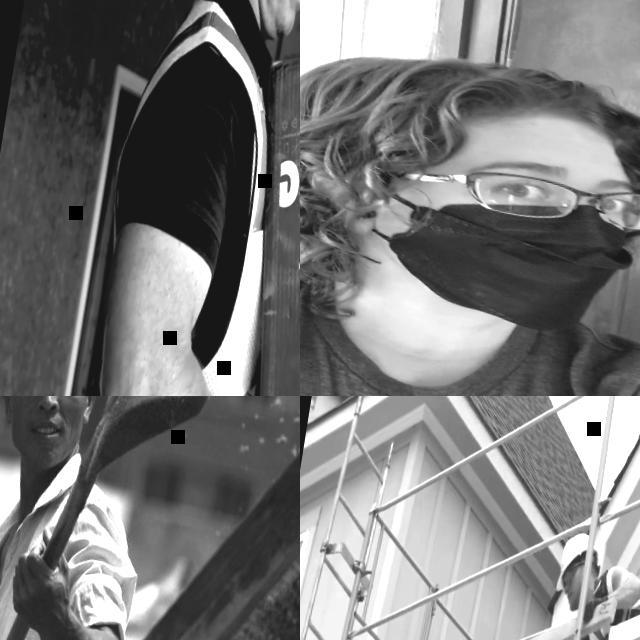helmet: (556, 530, 602, 596)
vest: (62, 0, 300, 396), (586, 563, 640, 640)
